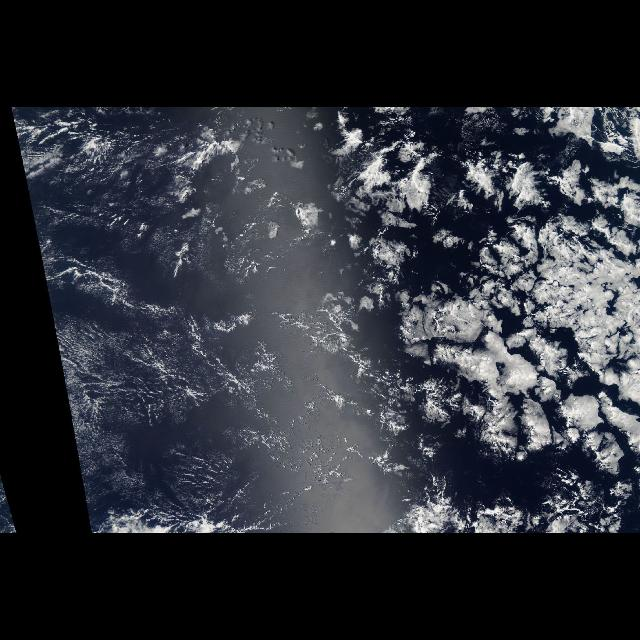Flower: (298, 113, 640, 532)
Sugar: (25, 134, 317, 534)
